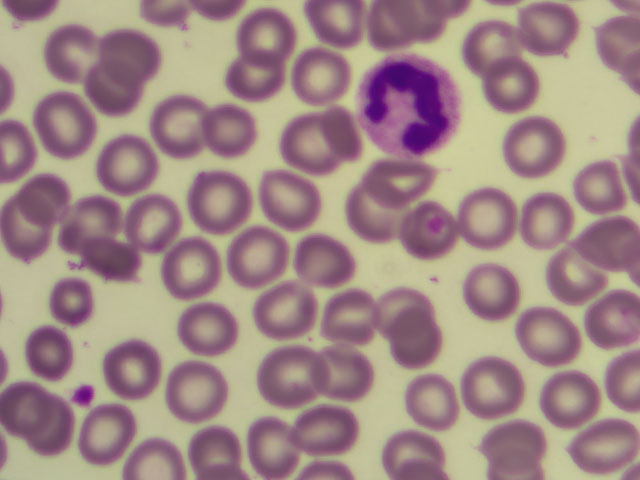Platelets: (74, 382, 99, 403)
RBC: (45, 23, 106, 81), (138, 420, 196, 480), (380, 420, 438, 480), (98, 23, 156, 82), (90, 65, 148, 124), (47, 91, 105, 150), (96, 138, 154, 197), (139, 96, 197, 155), (189, 100, 247, 159), (221, 60, 279, 119), (235, 5, 293, 64), (288, 43, 346, 102), (313, 104, 371, 163), (270, 114, 328, 173), (264, 170, 322, 229), (199, 167, 257, 226), (133, 191, 191, 250), (90, 228, 148, 287), (56, 199, 114, 258), (32, 174, 90, 233), (47, 272, 105, 331), (18, 321, 76, 380), (3, 370, 61, 429), (24, 404, 82, 463), (81, 404, 139, 463), (104, 339, 162, 398), (172, 361, 230, 420), (183, 308, 241, 367), (160, 242, 218, 301), (231, 227, 289, 286), (295, 228, 353, 287), (261, 277, 319, 336), (328, 287, 386, 346), (320, 344, 378, 403), (261, 343, 319, 402), (307, 398, 365, 457), (247, 413, 305, 472), (189, 417, 247, 476), (400, 373, 458, 432), (391, 317, 449, 376), (365, 287, 423, 346), (459, 268, 517, 327), (407, 209, 465, 268), (356, 188, 414, 247), (370, 171, 428, 230), (459, 181, 517, 240), (520, 191, 578, 250), (504, 115, 562, 174), (483, 61, 541, 120), (468, 22, 526, 81), (522, 7, 580, 66), (569, 157, 627, 216), (582, 215, 640, 274), (551, 250, 609, 309), (582, 278, 640, 337), (520, 304, 578, 363), (547, 373, 605, 432), (577, 412, 635, 471), (484, 418, 542, 477), (461, 358, 519, 417), (1, 200, 58, 259)
WBC: (358, 48, 465, 163)
